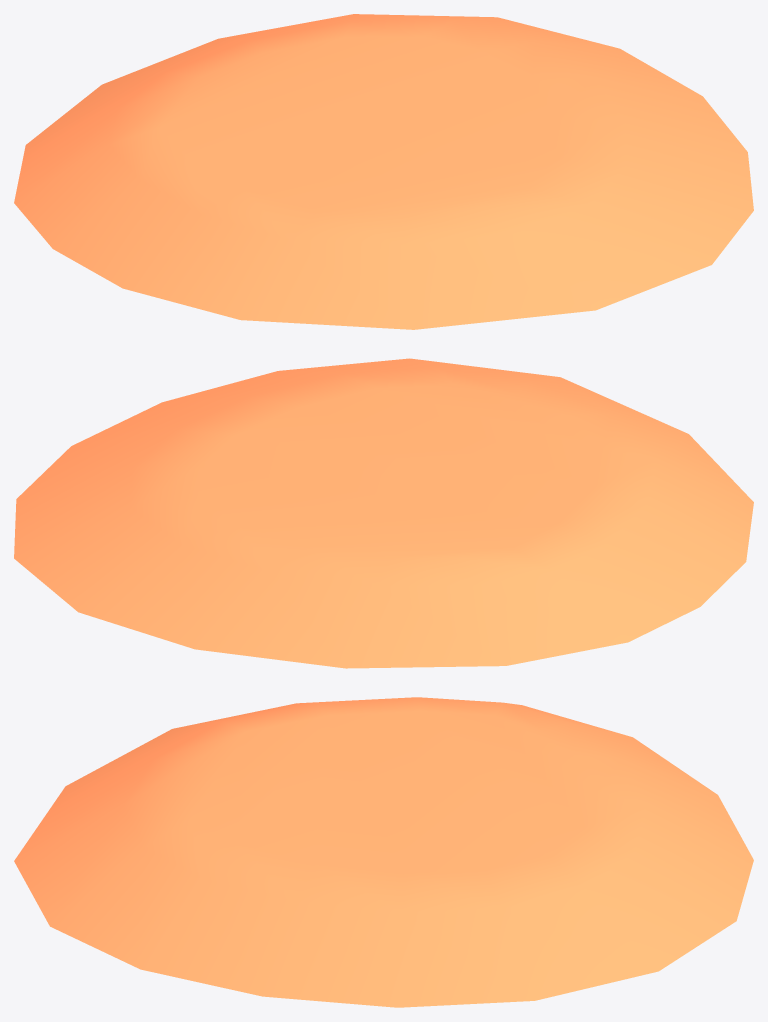
The model's file is PlatformGround_04.glb.
The picture shows the model from 3 angles, top to bottom: view 1: azimuth 30°, elevation 25°; view 2: azimuth 150°, elevation 25°; view 3: azimuth 270°, elevation 25°; orthographic projection.
Parts seen in each view (by area): view 1: PlatformGround_04; view 2: PlatformGround_04; view 3: PlatformGround_04.
Boxes of the visible parts, left/top/right/bottom form: PlatformGround_04: left=14, top=14, right=753, bottom=329; PlatformGround_04: left=14, top=358, right=753, bottom=668; PlatformGround_04: left=14, top=697, right=753, bottom=1007.
Bounding box in the file's own units: 1.55 × 0.1252 × 1.56.
1 material, 1 textured.
